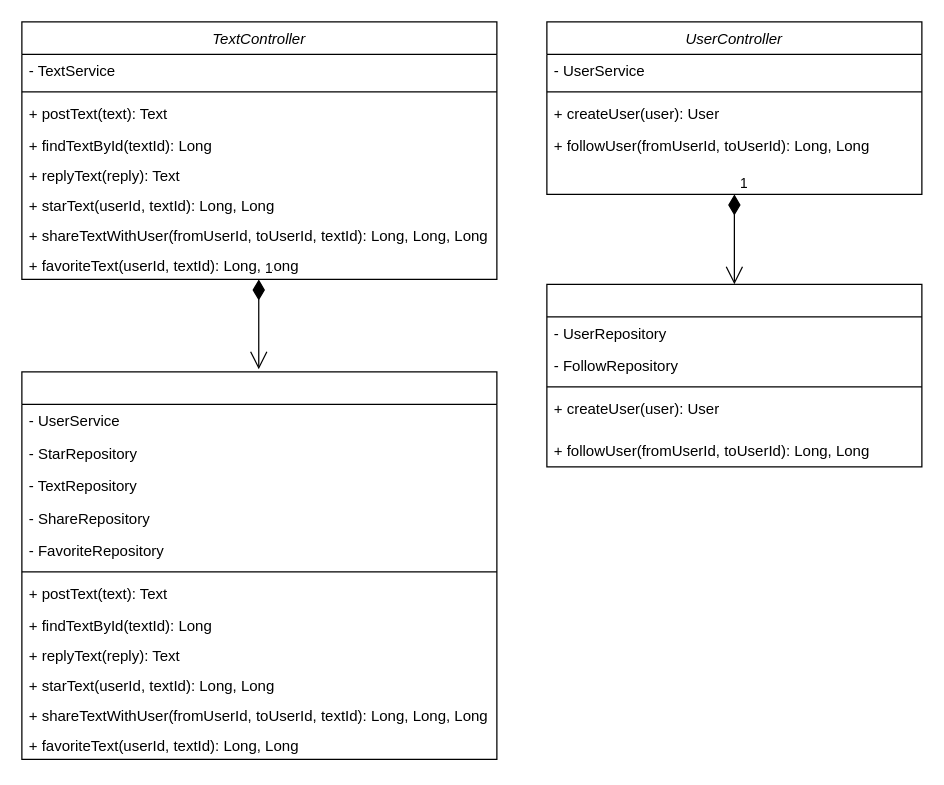
Some shapes in this 944 by 785 pixel diagram are drawn without their labels. The shapes that lost their labels are listed below. From the top down, each one's box as (x1, y1, x2, y2) in pixels, then its label:
(546, 283, 922, 467): UserService
(21, 371, 497, 759): TextService
